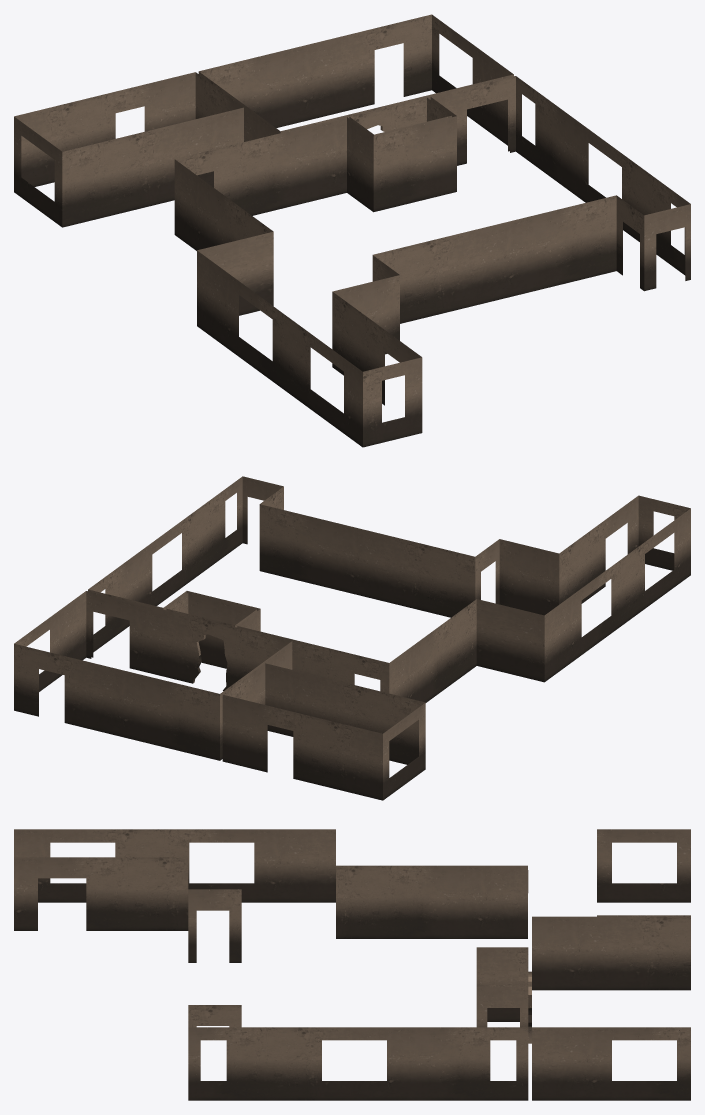
Rendered from A1_H1_Walls.FBX.
The picture shows the model from 3 angles, top to bottom: view 1: azimuth 30°, elevation 25°; view 2: azimuth 150°, elevation 25°; view 3: azimuth 270°, elevation 25°; orthographic projection. The views are drawn at different scales.
Visible parts, largest first — view 1: A1_H1_Walls; view 2: A1_H1_Walls; view 3: A1_H1_Walls.
Boxes of the visible parts, box(x1,y1,x2,y2) form: A1_H1_Walls: box(14, 14, 690, 447); A1_H1_Walls: box(14, 476, 690, 800); A1_H1_Walls: box(14, 829, 690, 1100).
Size of the model in its own units: 1800 by 312 by 2602.
1 material, 1 textured.
